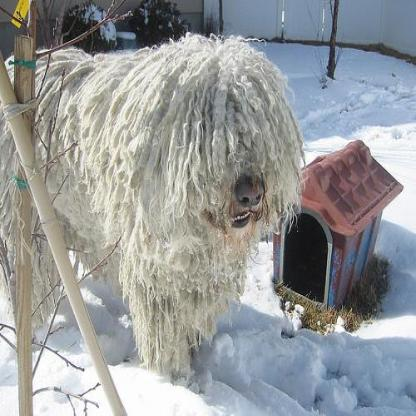komondor: (1, 31, 305, 394)
